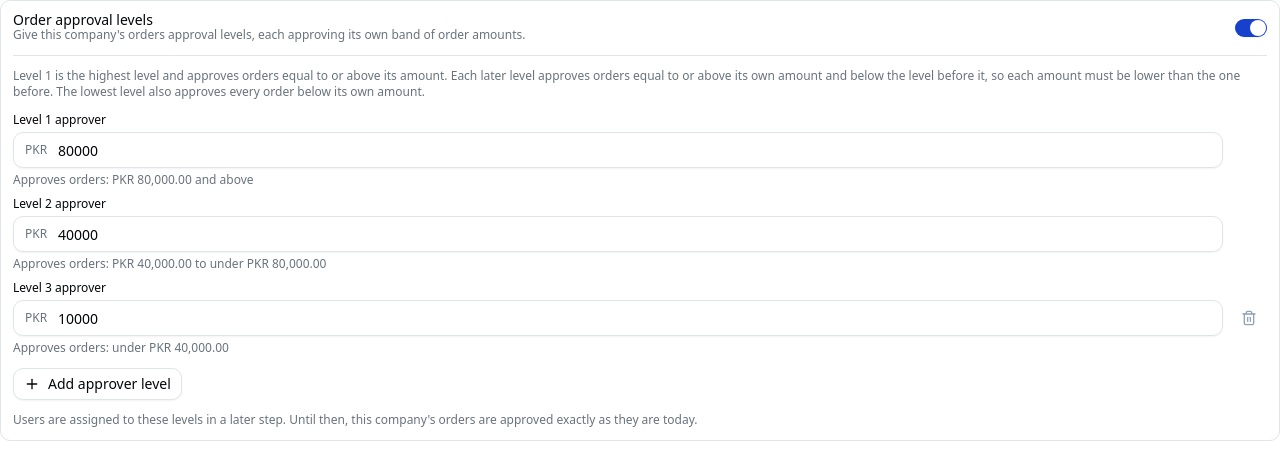
Test: OrderApprovalLevelsFields › shows each level's band once every amount is valid, the lowest taking everything below
The width and height of the screenshot is (1280, 458).
Expected: the text "Approves orders: PKR 80,000.00 and above" is shown, [13,171,254,188]
Expected: the text "Approves orders: PKR 40,000.00 to under PKR 80,000.00" is shown, [13,255,326,272]
Note: A band depends on its neighbours, so an invalid list shows none.
Replace the text in the field labelled "Level 2 approver" with "90000" at {"x": 618, "y": 234}, box [13,216,1223,252]
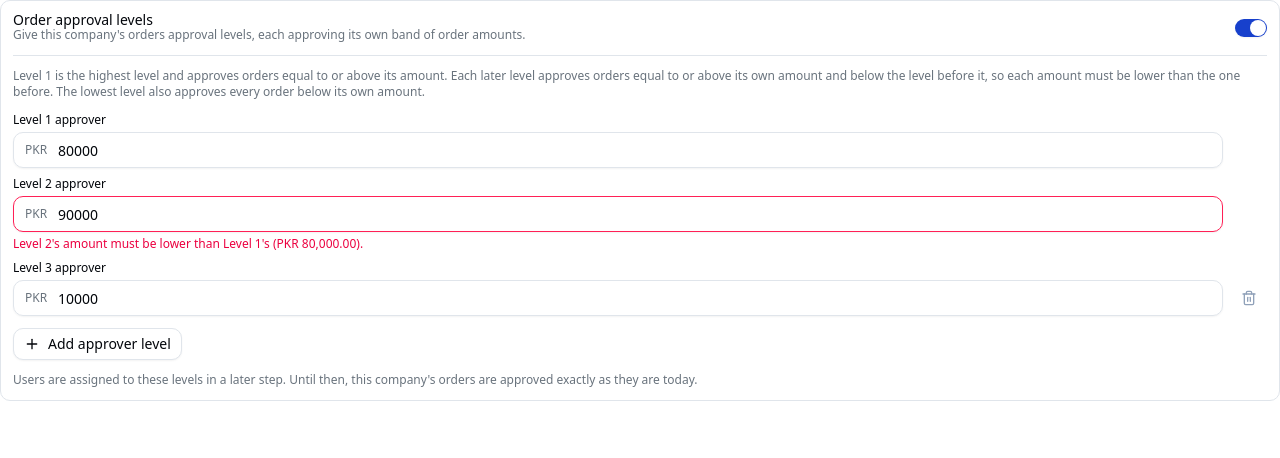
Now the text "Approves orders:" is gone
